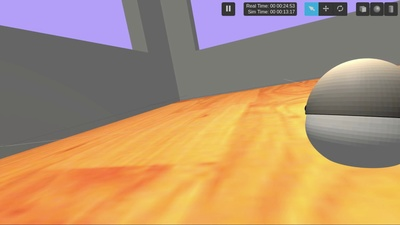mira_robot: (304, 57, 400, 168)
